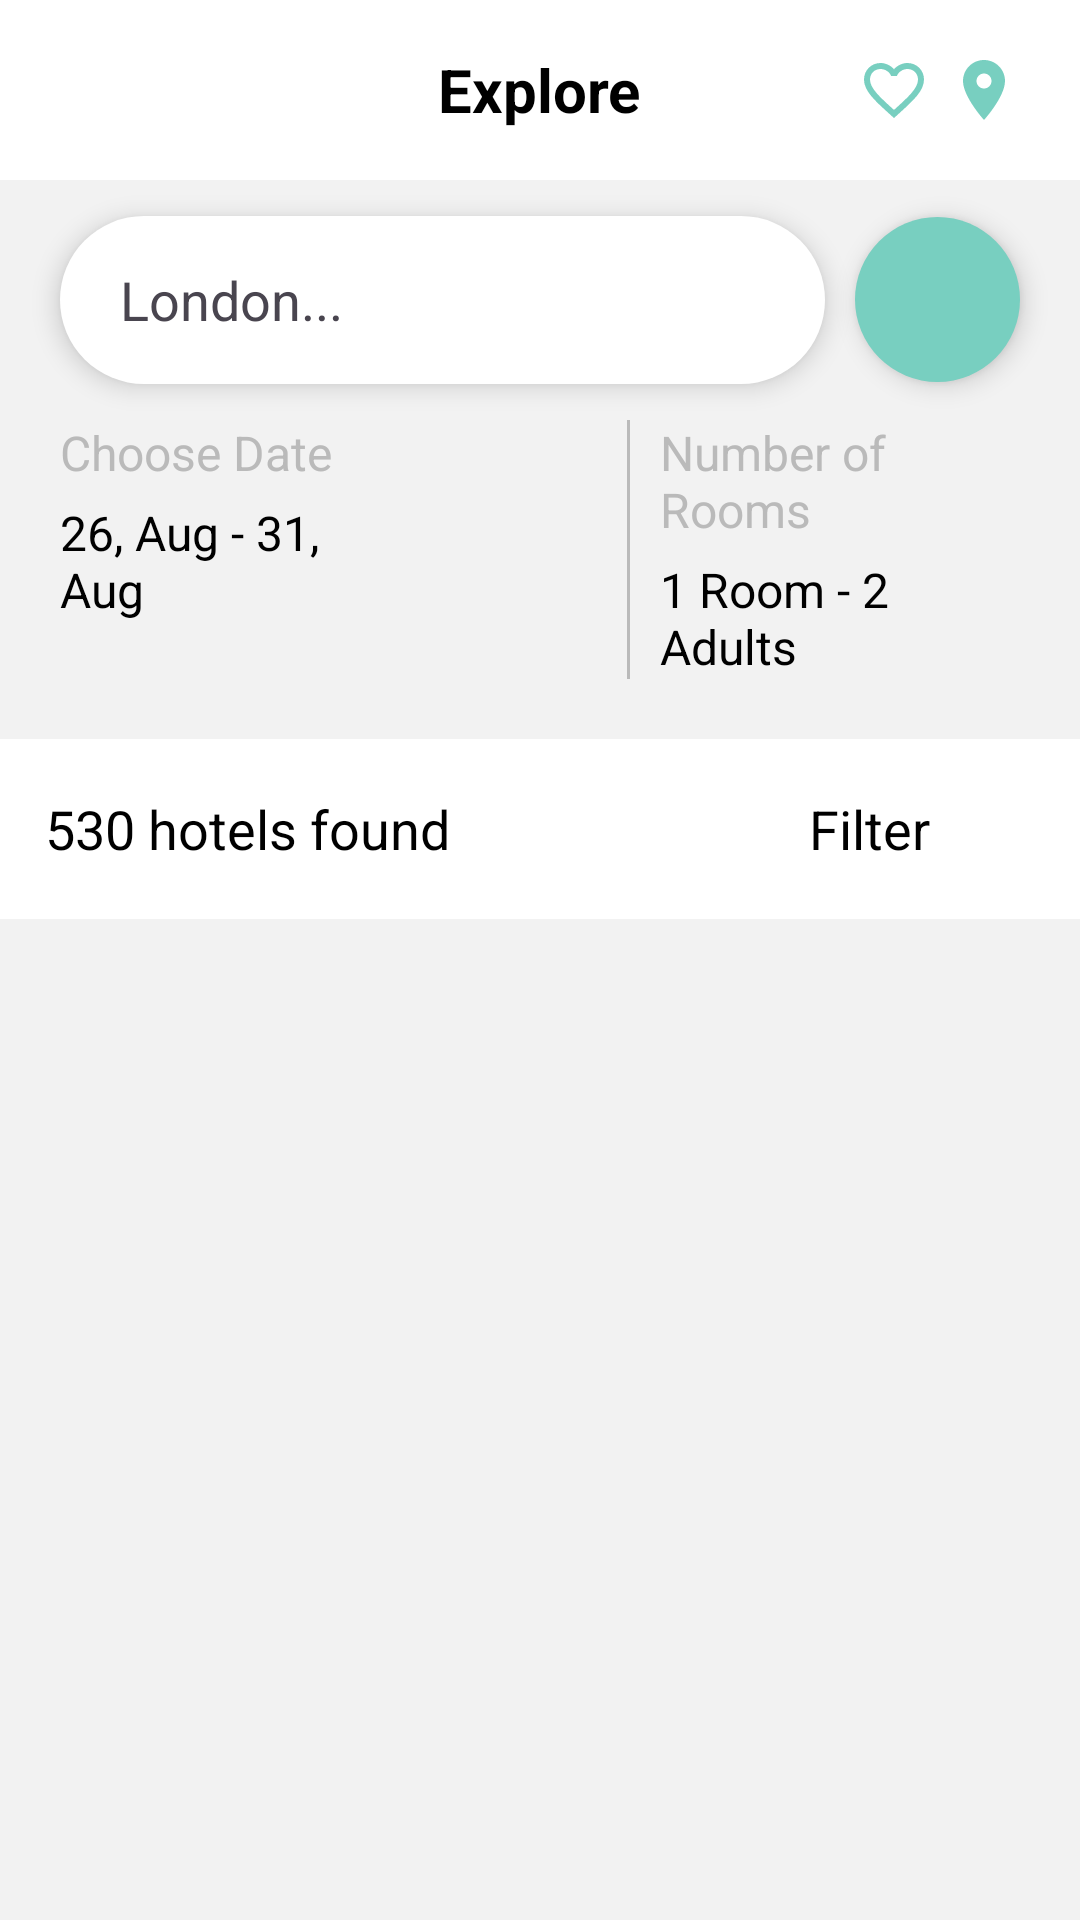

Icons on this 1080×1920 Android screen, each with the point to tap as (x=x, y=y):
heart: (x=894, y=90)
location: (x=984, y=90)
